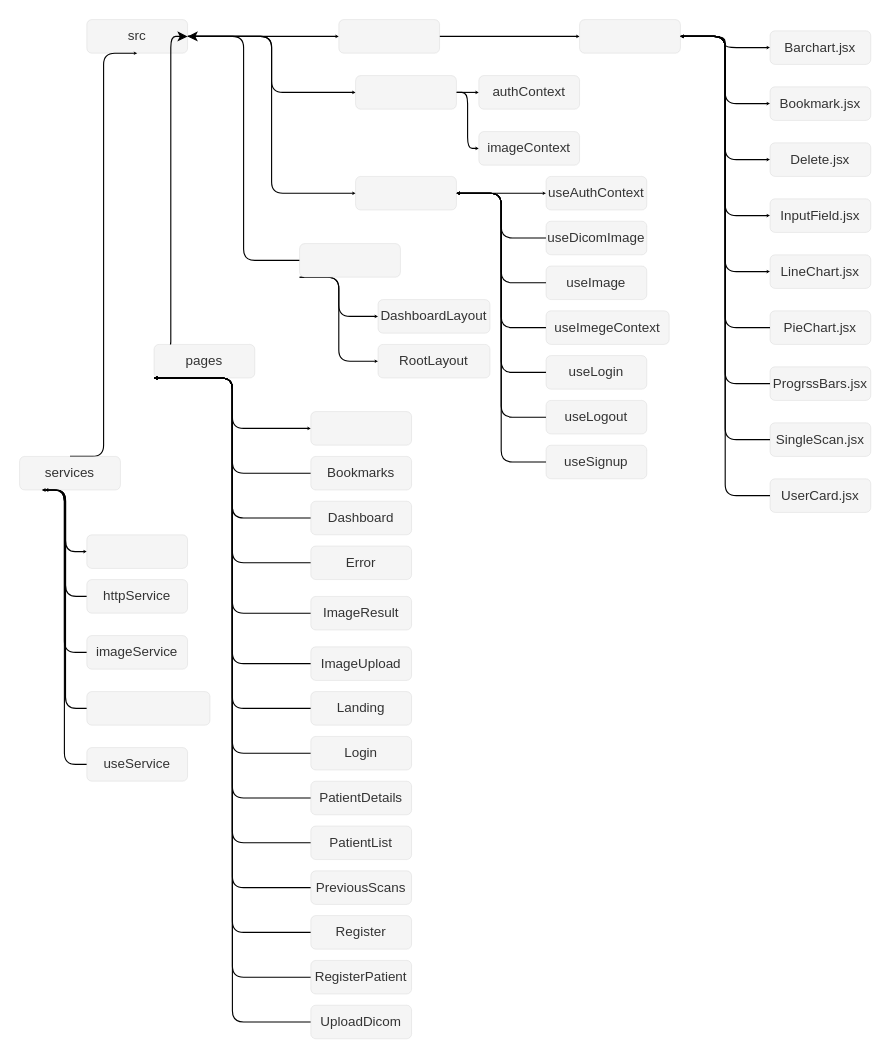
Some shapes in this 889 by 1057 pixel diagram are drawn without their labels. The centre of each missing label's shape, as x and y in pixels:
"About" goes at pixel 360 428.
"authService" goes at pixel 136 551.
"common" goes at pixel 629 36.
"components" goes at pixel 388 36.
"context" goes at pixel 405 92.
"hooks" goes at pixel 405 192.
"layouts" goes at pixel 349 260.
"patientService" goes at pixel 147 708.
